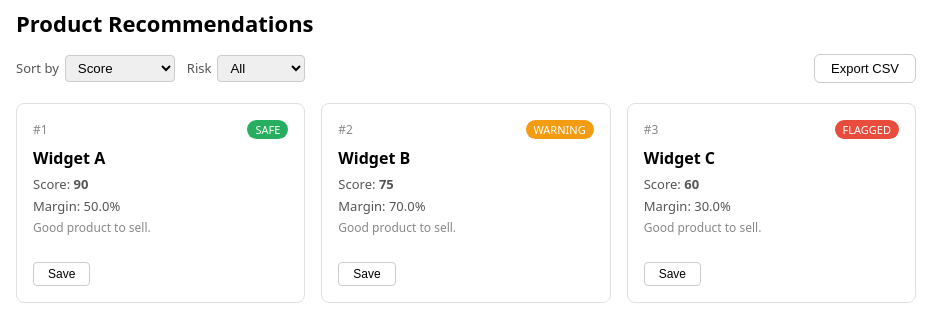
Scenario: AC 3 — Risk filter › filters to show only SAFE products
The width and height of the screenshot is (933, 320).
Select "Safe" in the dropdown labelled "Risk" at {"x": 261, "y": 68}, box [217,55,305,82]
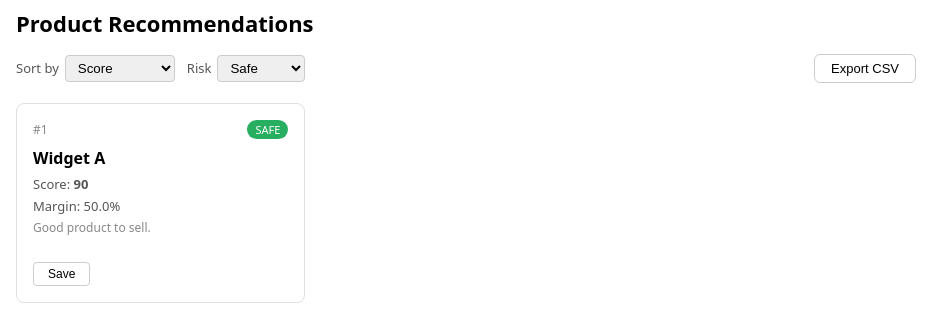
Expected: the heading "Widget A" is shown, [33,147,105,169]
Expected: the button "Widget B" is gone
Expected: the button "Widget C" is gone
